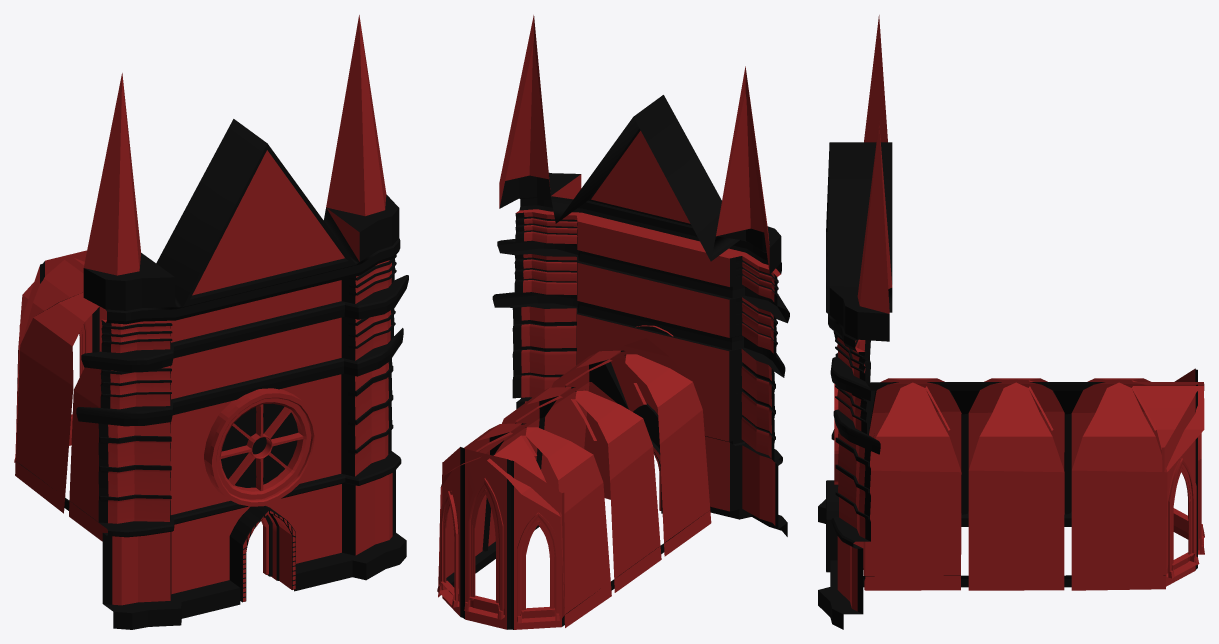
The model's file is underworldHub_03.fbx.
3 renders of one model, left to right at view 1: azimuth 30°, elevation 25°; view 2: azimuth 150°, elevation 25°; view 3: azimuth 270°, elevation 25°, orthographic. The views are drawn at different scales.
Parts seen in each view (by area): view 1: underworldHub; view 2: underworldHub; view 3: underworldHub.
Part boxes in pixels (x1,y1,x2,y2): underworldHub: (14,15,408,629); underworldHub: (437,15,789,629); underworldHub: (818,15,1204,629).
Size of the model in its own units: 21.39 by 33.43 by 23.62.
